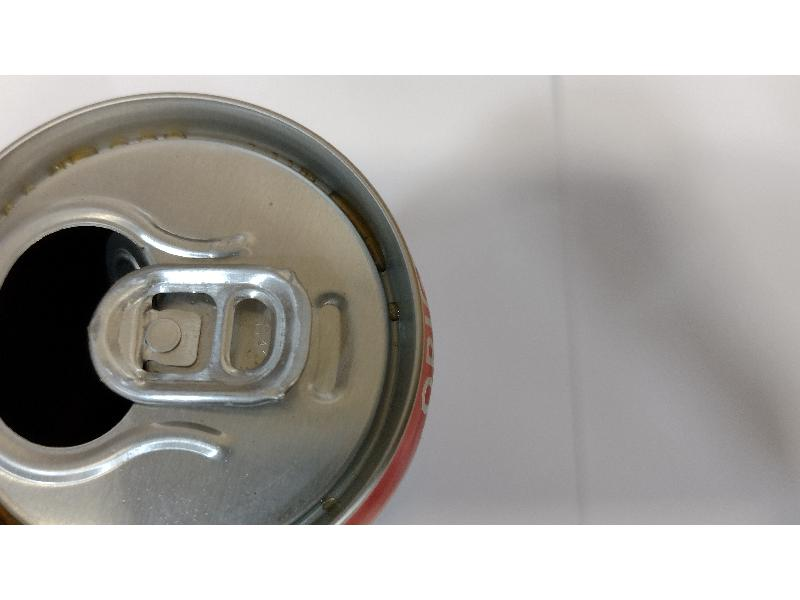can: (0, 92, 450, 534)
